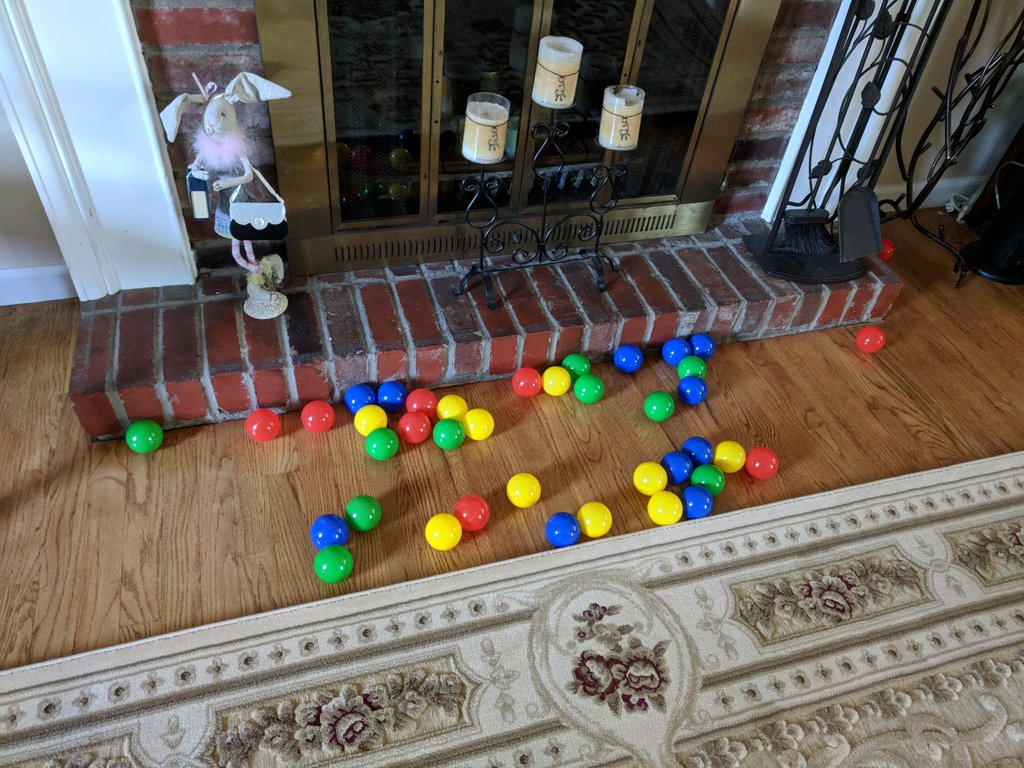ball: (396, 412, 433, 444)
